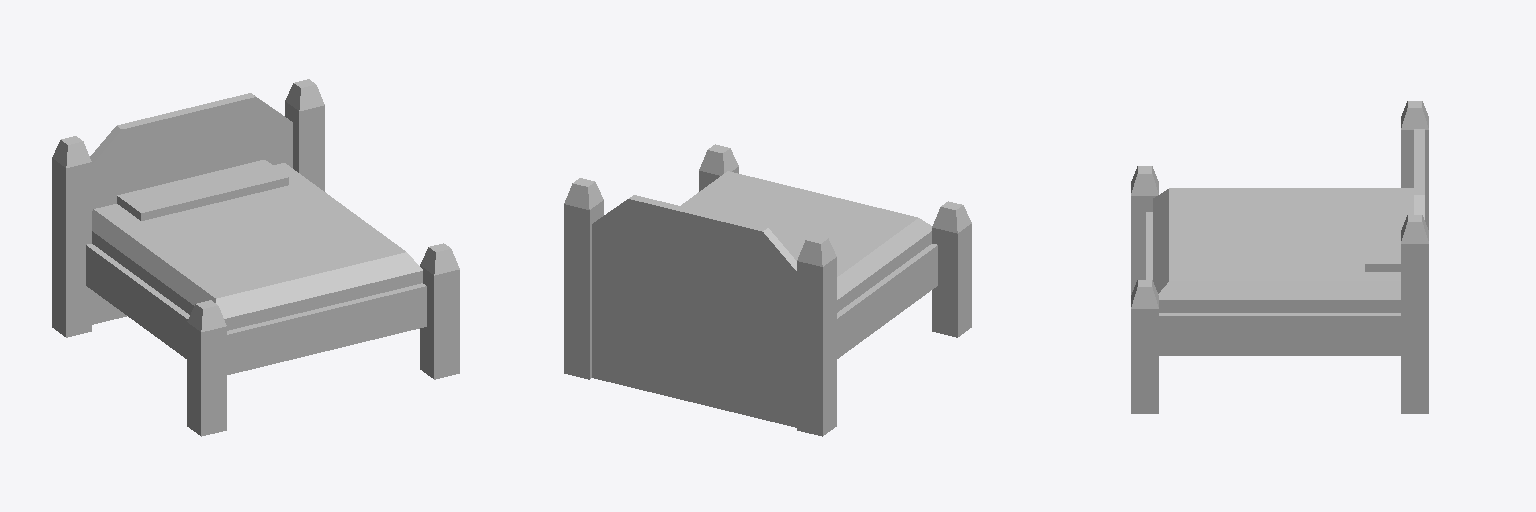
Rendered from hcmwbed4post.obj.
3 views of the same model, side by side, from view 1: azimuth 30°, elevation 25°; view 2: azimuth 150°, elevation 25°; view 3: azimuth 270°, elevation 25° (orthographic).
Parts seen in each view (by area): view 1: pbed_mattress, pbed_backboard, pbed_base, pbed_post_bl_sm, pbed_post_fl_sm, pbed_pillow, pbed_post_fr_sm, pbed_post_br_sm; view 2: pbed_backboard, pbed_mattress, pbed_post_bl_sm, pbed_post_br_sm, pbed_post_fl_sm, pbed_base, pbed_post_fr_sm; view 3: pbed_mattress, pbed_base, pbed_post_br_sm, pbed_post_fr_sm, pbed_pillow, pbed_post_fl_sm, pbed_post_bl_sm, pbed_backboard.
Part boxes in pixels (bbox=[...]): pbed_mattress: bbox=[92, 163, 422, 330]; pbed_backboard: bbox=[90, 93, 292, 324]; pbed_base: bbox=[86, 244, 426, 374]; pbed_post_bl_sm: bbox=[52, 136, 91, 337]; pbed_post_fl_sm: bbox=[187, 300, 226, 436]; pbed_pillow: bbox=[117, 160, 288, 220]; pbed_post_fr_sm: bbox=[420, 243, 459, 379]; pbed_post_br_sm: bbox=[285, 79, 324, 191]; pbed_backboard: bbox=[592, 195, 796, 427]; pbed_mattress: bbox=[681, 171, 931, 312]; pbed_post_bl_sm: bbox=[797, 235, 836, 436]; pbed_post_br_sm: bbox=[564, 178, 603, 379]; pbed_post_fl_sm: bbox=[932, 201, 971, 337]; pbed_base: bbox=[837, 244, 937, 358]; pbed_post_fr_sm: bbox=[699, 144, 738, 191]; pbed_mattress: bbox=[1153, 188, 1413, 312]; pbed_base: bbox=[1146, 212, 1400, 355]; pbed_post_br_sm: bbox=[1401, 215, 1428, 413]; pbed_post_fr_sm: bbox=[1131, 280, 1158, 413]; pbed_pillow: bbox=[1365, 192, 1413, 271]; pbed_post_fl_sm: bbox=[1131, 166, 1158, 294]; pbed_post_bl_sm: bbox=[1401, 101, 1428, 229]; pbed_backboard: bbox=[1414, 129, 1424, 219].
Size of the model in its own units: 2 by 1.4 by 2.